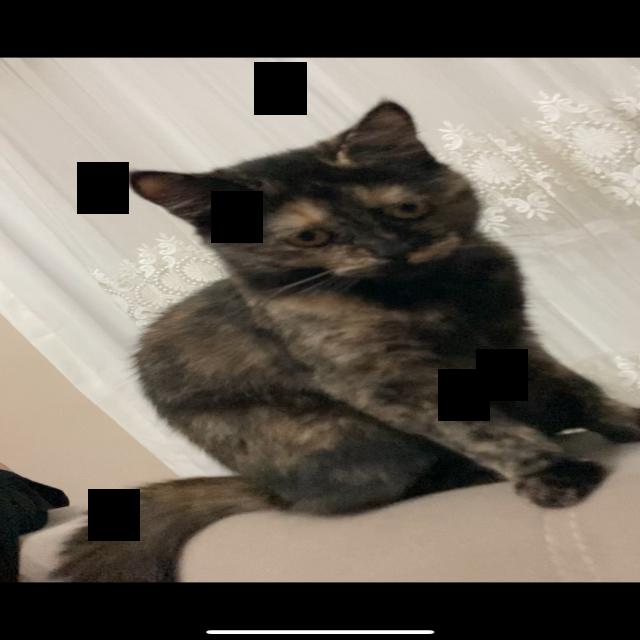authorized: (45, 99, 637, 582)
